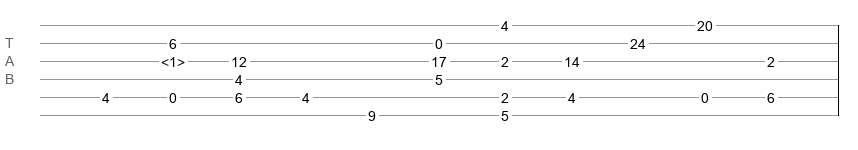0: (169, 90, 177, 100), (435, 36, 443, 46), (701, 90, 709, 100)
12: (231, 54, 247, 64)
14: (564, 54, 580, 64)
17: (431, 54, 447, 64)
2: (501, 90, 509, 100), (501, 54, 509, 64), (767, 54, 775, 64)
20: (697, 18, 713, 28)
24: (630, 36, 646, 46)
4: (102, 90, 110, 100), (235, 72, 243, 82), (302, 90, 310, 100), (501, 18, 509, 28), (568, 90, 576, 100)
5: (435, 72, 443, 82), (501, 108, 509, 118)
6: (169, 36, 177, 46), (235, 90, 243, 100), (767, 90, 775, 100)
9: (368, 108, 376, 118)
harmonic: (161, 54, 185, 64)
